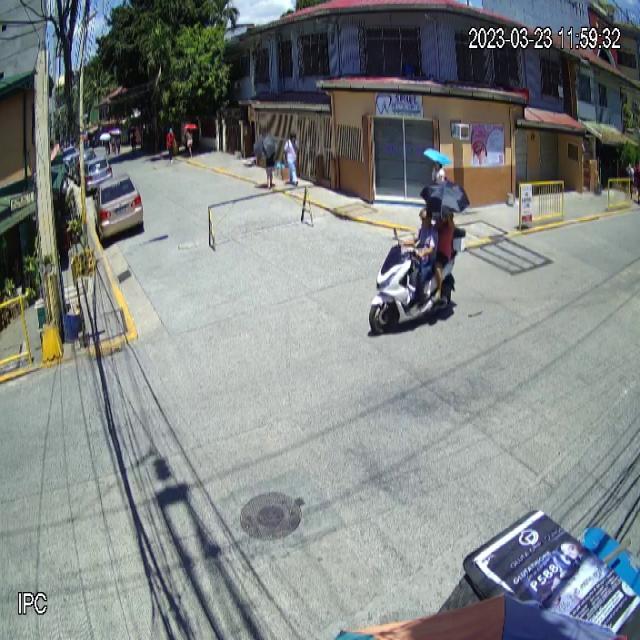Car: (92, 173, 144, 243)
Motorcycle: (368, 227, 466, 333)
